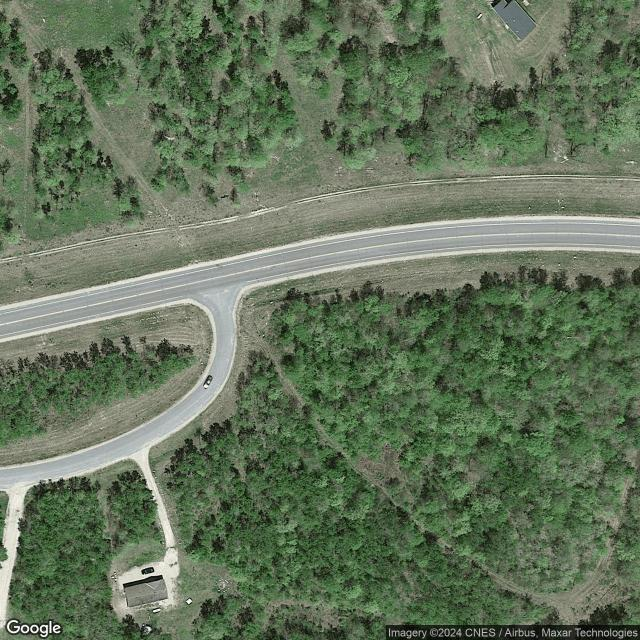Propane: (152, 606, 162, 614), (476, 12, 484, 20)
